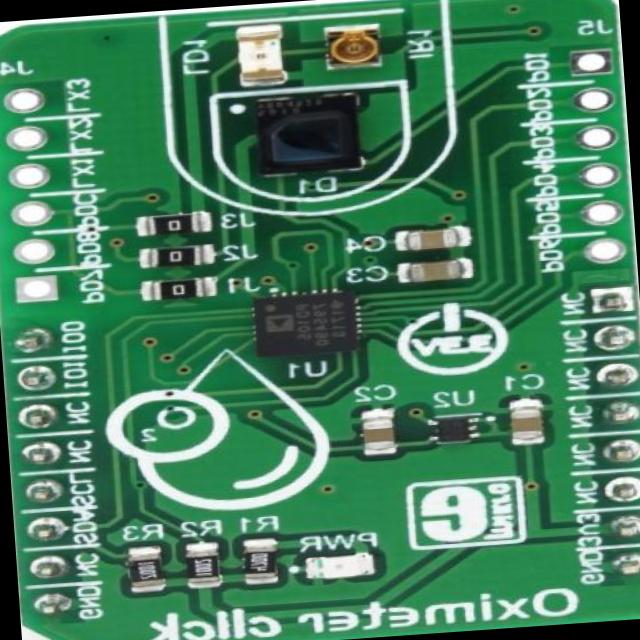IC: (248, 94, 363, 174), (246, 290, 352, 358), (428, 416, 478, 442)
LED: (306, 546, 378, 583), (232, 26, 281, 80), (329, 26, 386, 70)
capacitor: (508, 404, 548, 447), (398, 256, 462, 282), (401, 226, 457, 254), (362, 412, 398, 454)
resistor: (136, 212, 202, 240), (124, 548, 163, 594), (183, 536, 218, 586), (240, 538, 276, 582), (140, 244, 199, 270), (147, 278, 200, 304)
